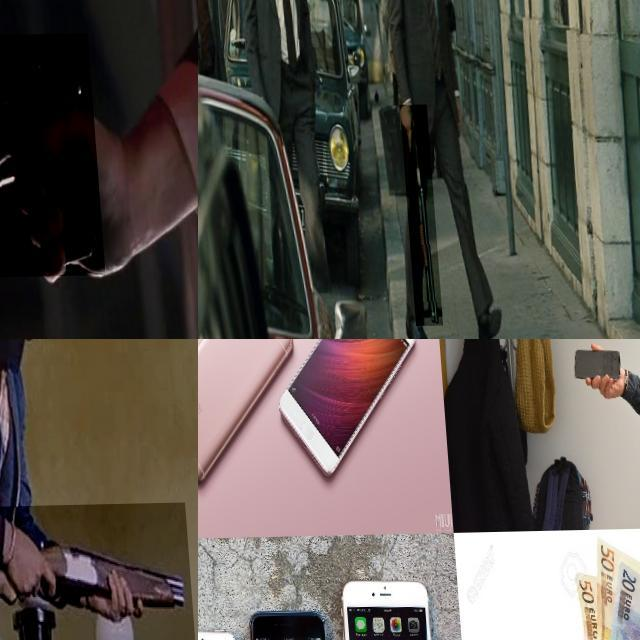gun-knife-thesis - v11 Yolov5 augmented: (0, 35, 104, 281), (0, 504, 187, 640), (395, 106, 435, 328)
